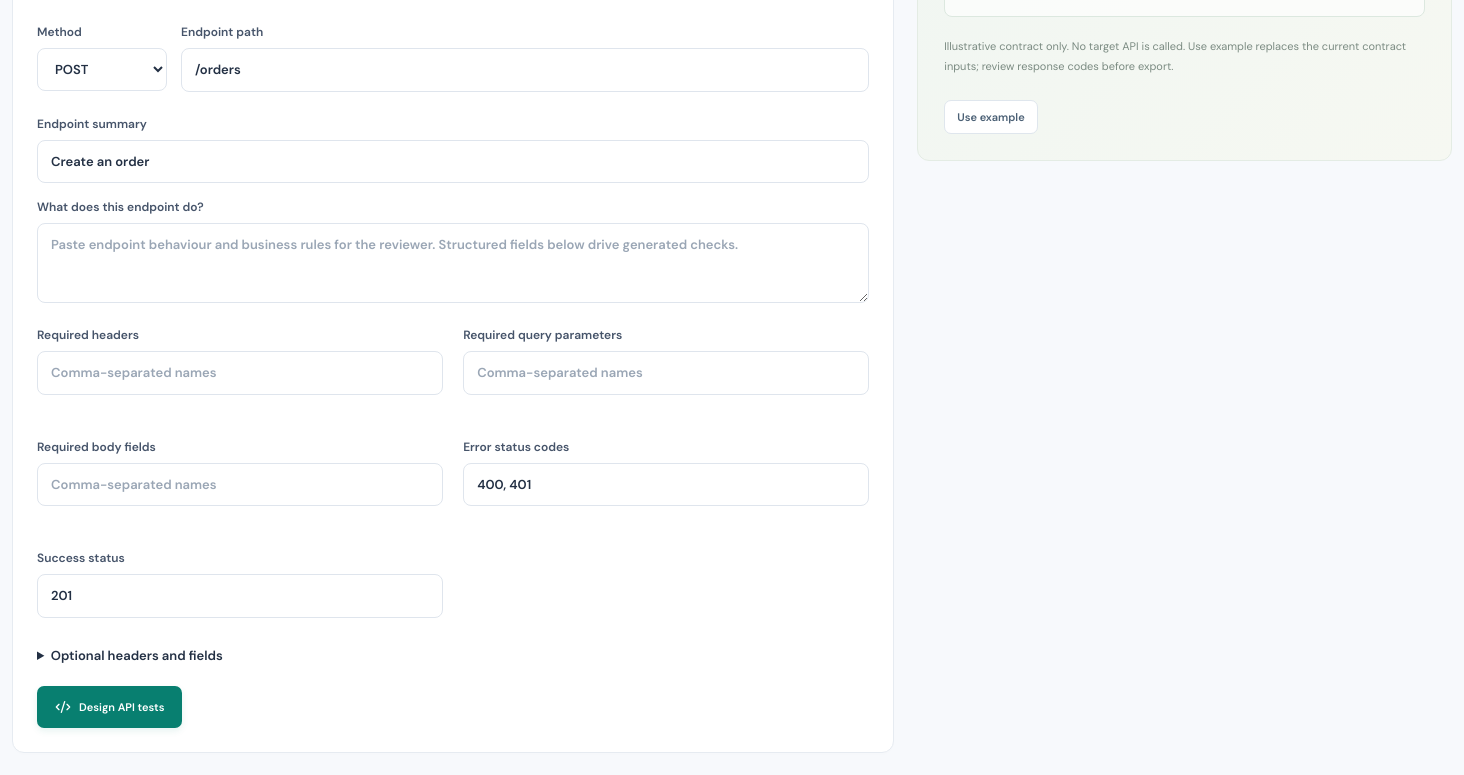
Scenario: API exports require review and edits invalidate review
(page scrolled)
Click the button "Design API tests" at x=110, y=707, box [37,686,182,728]
(page scrolled)
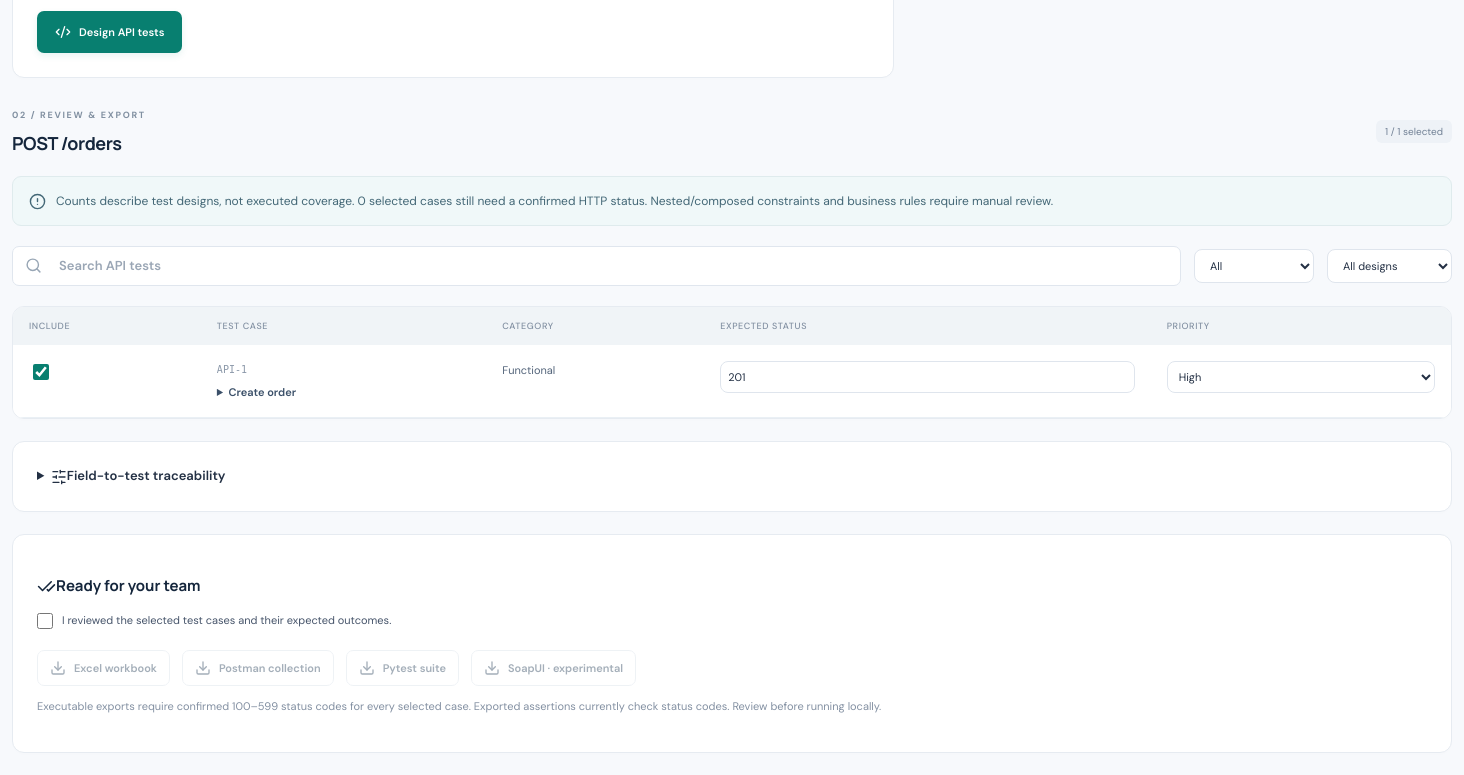
Expected: the button "Pytest suite" is disabled, [346,650,459,686]
Click the checkbox labelled "I reviewed the selected test cases and their expected outcomes." at x=45, y=621, box [37,613,53,629]
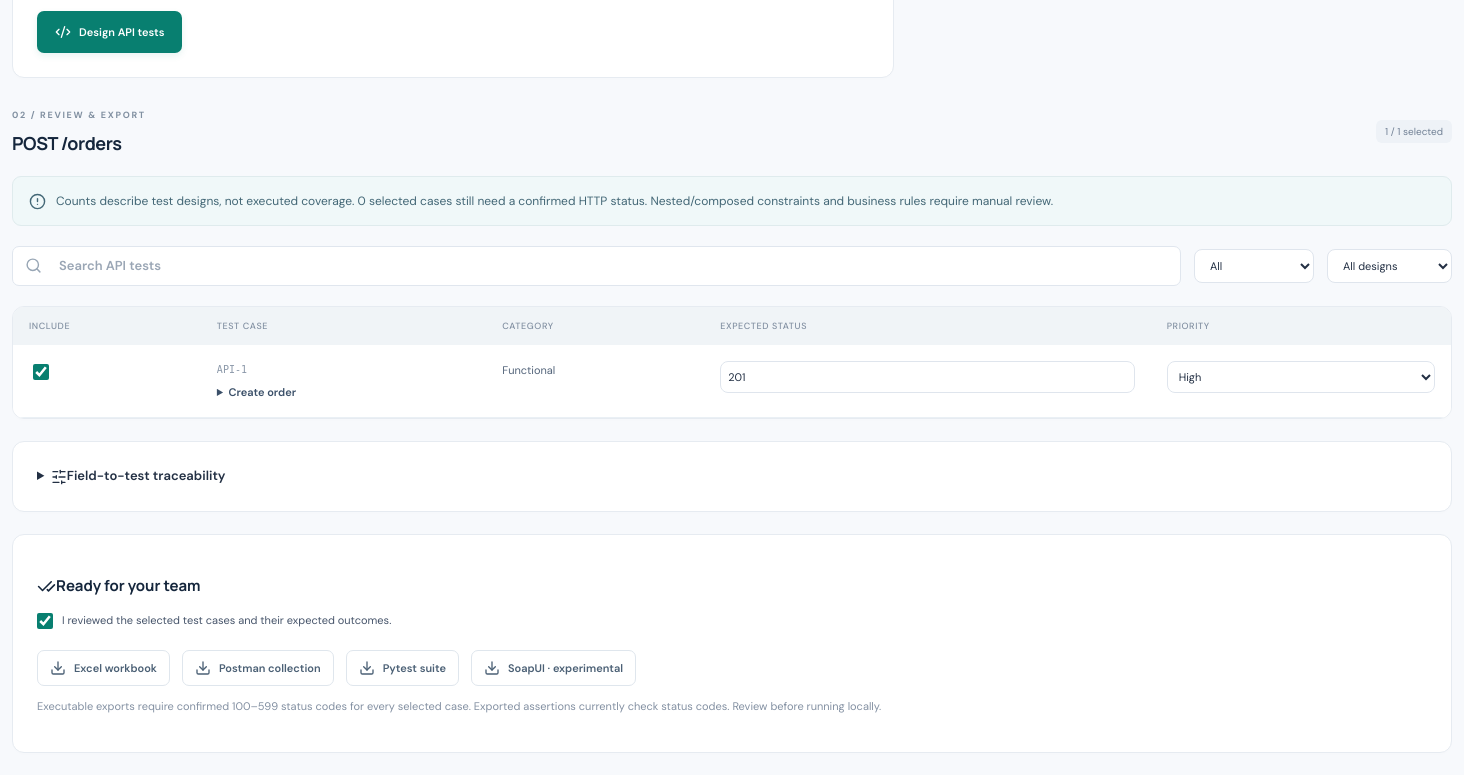
Expected: the button "Pytest suite" is enabled, [346,650,459,686]
Replace the text in the field named "Expected status API-1" with "TBD" at x=927, y=377, box [720,361,1135,393]
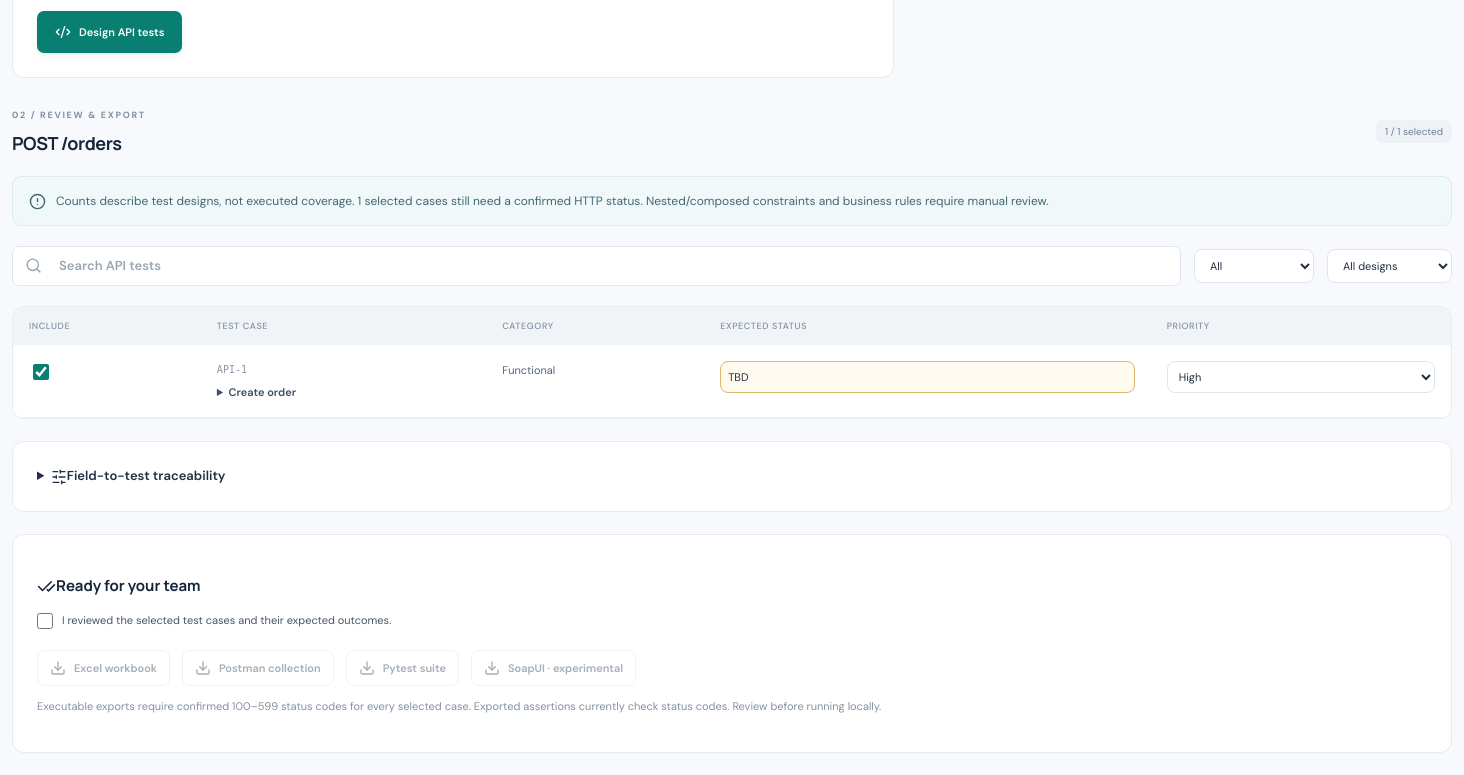
Expected: the button "Pytest suite" is disabled, [346,650,459,686]
Click the checkbox labelled "I reviewed the selected test cases and their expected outcomes." at x=45, y=621, box [37,613,53,629]
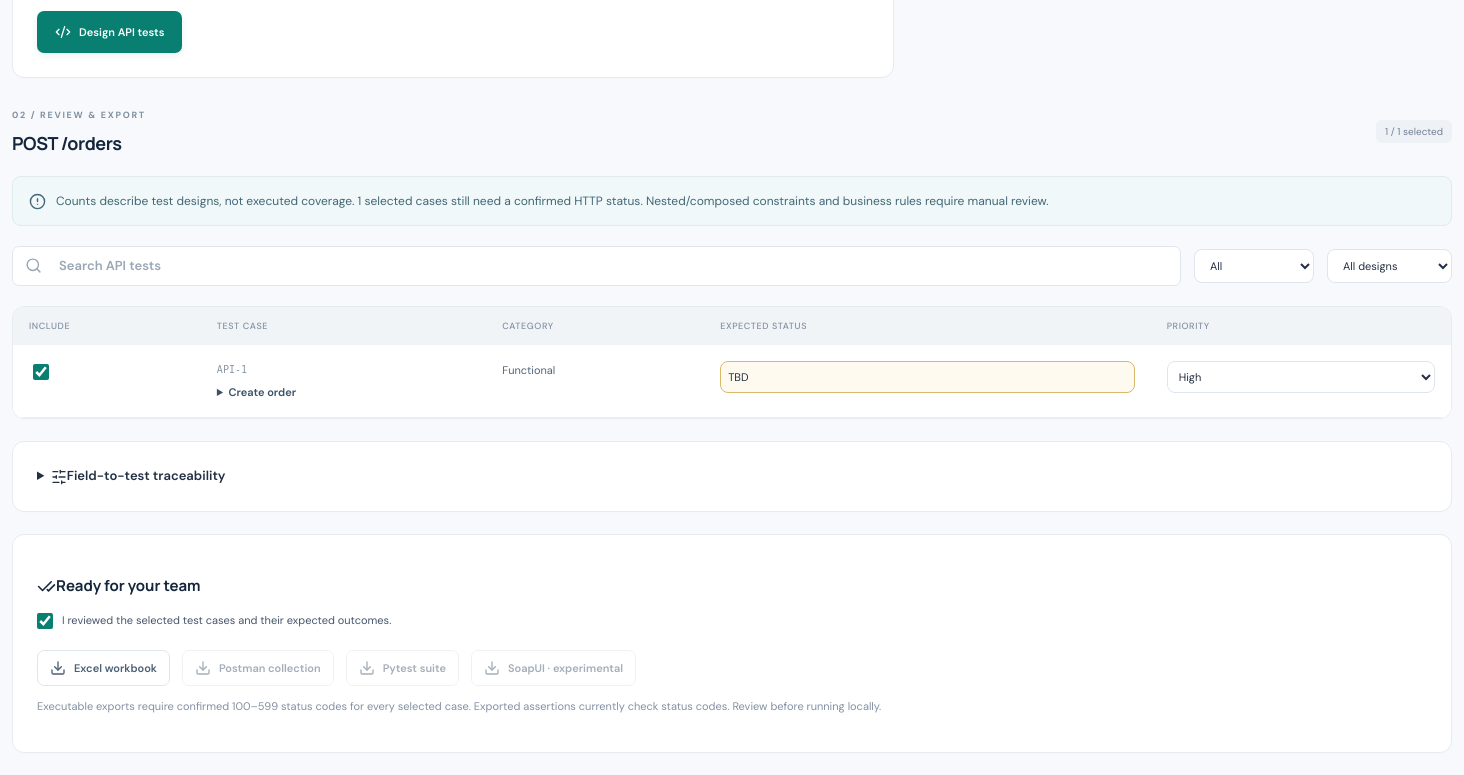
Expected: the button "Pytest suite" is disabled, [346,650,459,686]
Expected: the button "Excel workbook" is enabled, [37,650,170,686]
